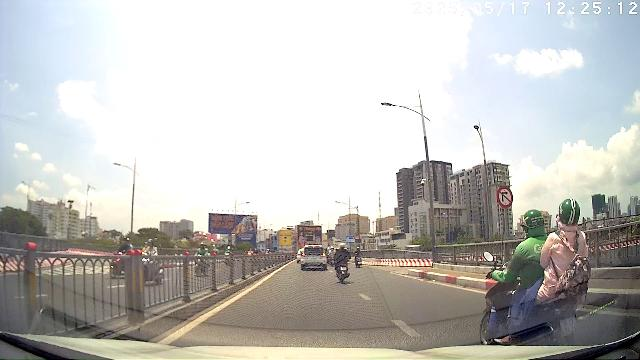123b-cam-re-phai: (496, 186, 514, 209)
